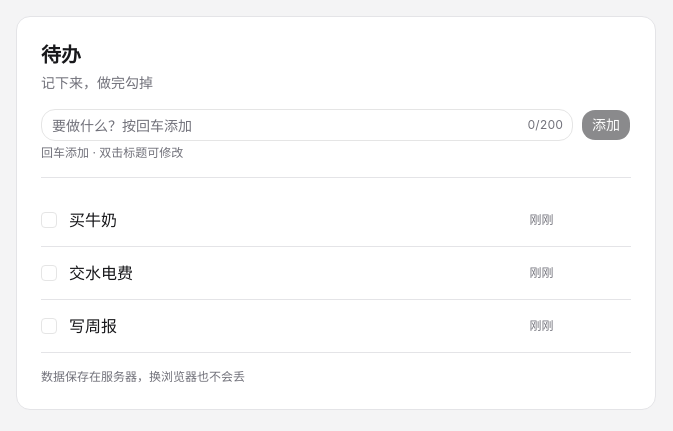
Scenario: Story 3.4 行内编辑集成补充（TodoApp + 契约替身） › [P0] AC-2/AC-5 FE-E1 未改回车、改后 Esc：不发 PATCH、退出编辑态、标题为原文、updatedAt 不变
Expected: the number of list items is 3, [41, 194, 631, 247]; [41, 247, 631, 300]; [41, 300, 631, 353]
Double-click the button with aria-label "编辑：交水电费": (101, 273) [69, 261, 517, 285]
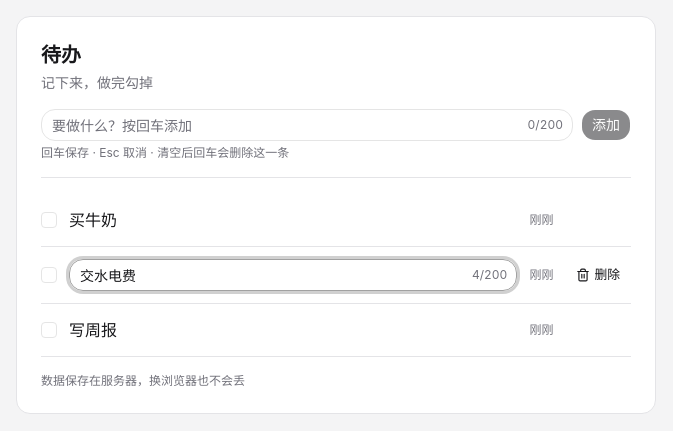
Press Enter
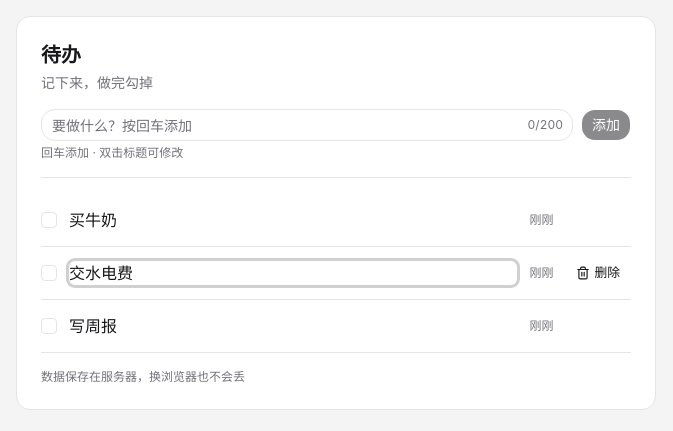
Result: the field labelled "编辑待办标题：交水电费" is gone
Double-click the button with aria-label "编辑：交水电费": (101, 273) [69, 261, 517, 285]
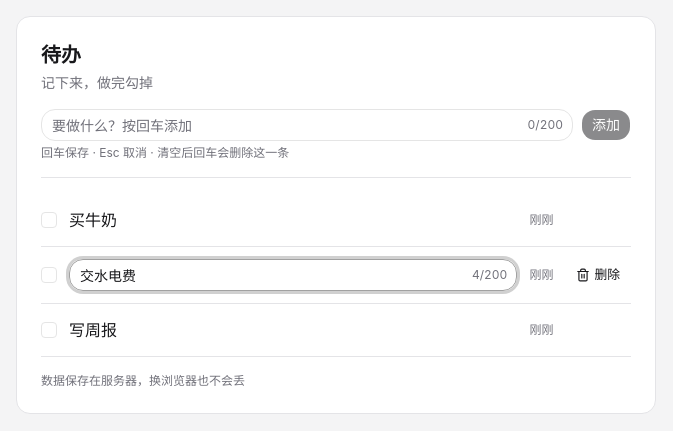
In the field named "编辑待办标题：交水电费": (293, 275) [69, 259, 517, 291], type "（加急）"
Then press Escape
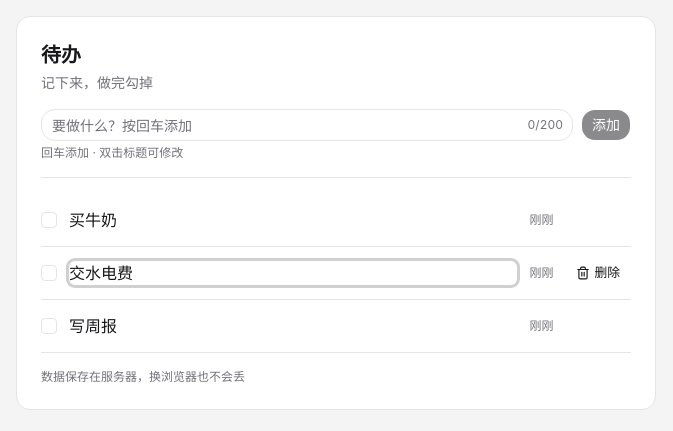
Result: the field labelled "编辑待办标题：交水电费" is gone
Result: the button with aria-label "编辑：交水电费" reads "交水电费" at [69, 261, 517, 285]
